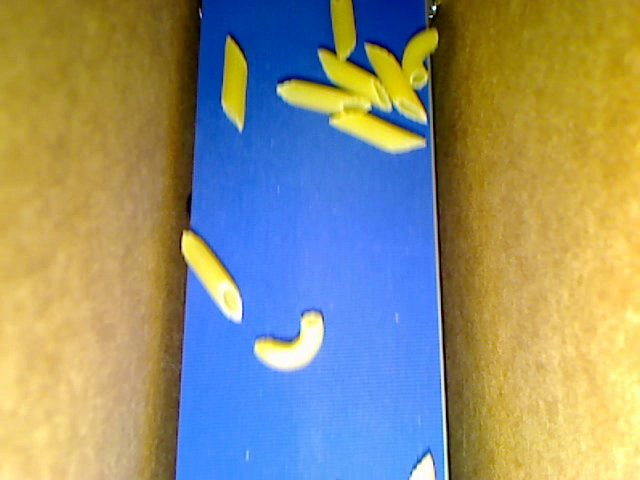elbow: (253, 310, 323, 371), (401, 27, 437, 89)
penne: (180, 229, 243, 321), (364, 43, 427, 124), (328, 107, 426, 155), (317, 50, 391, 109), (276, 80, 370, 115), (222, 36, 247, 132), (330, 1, 356, 63)
